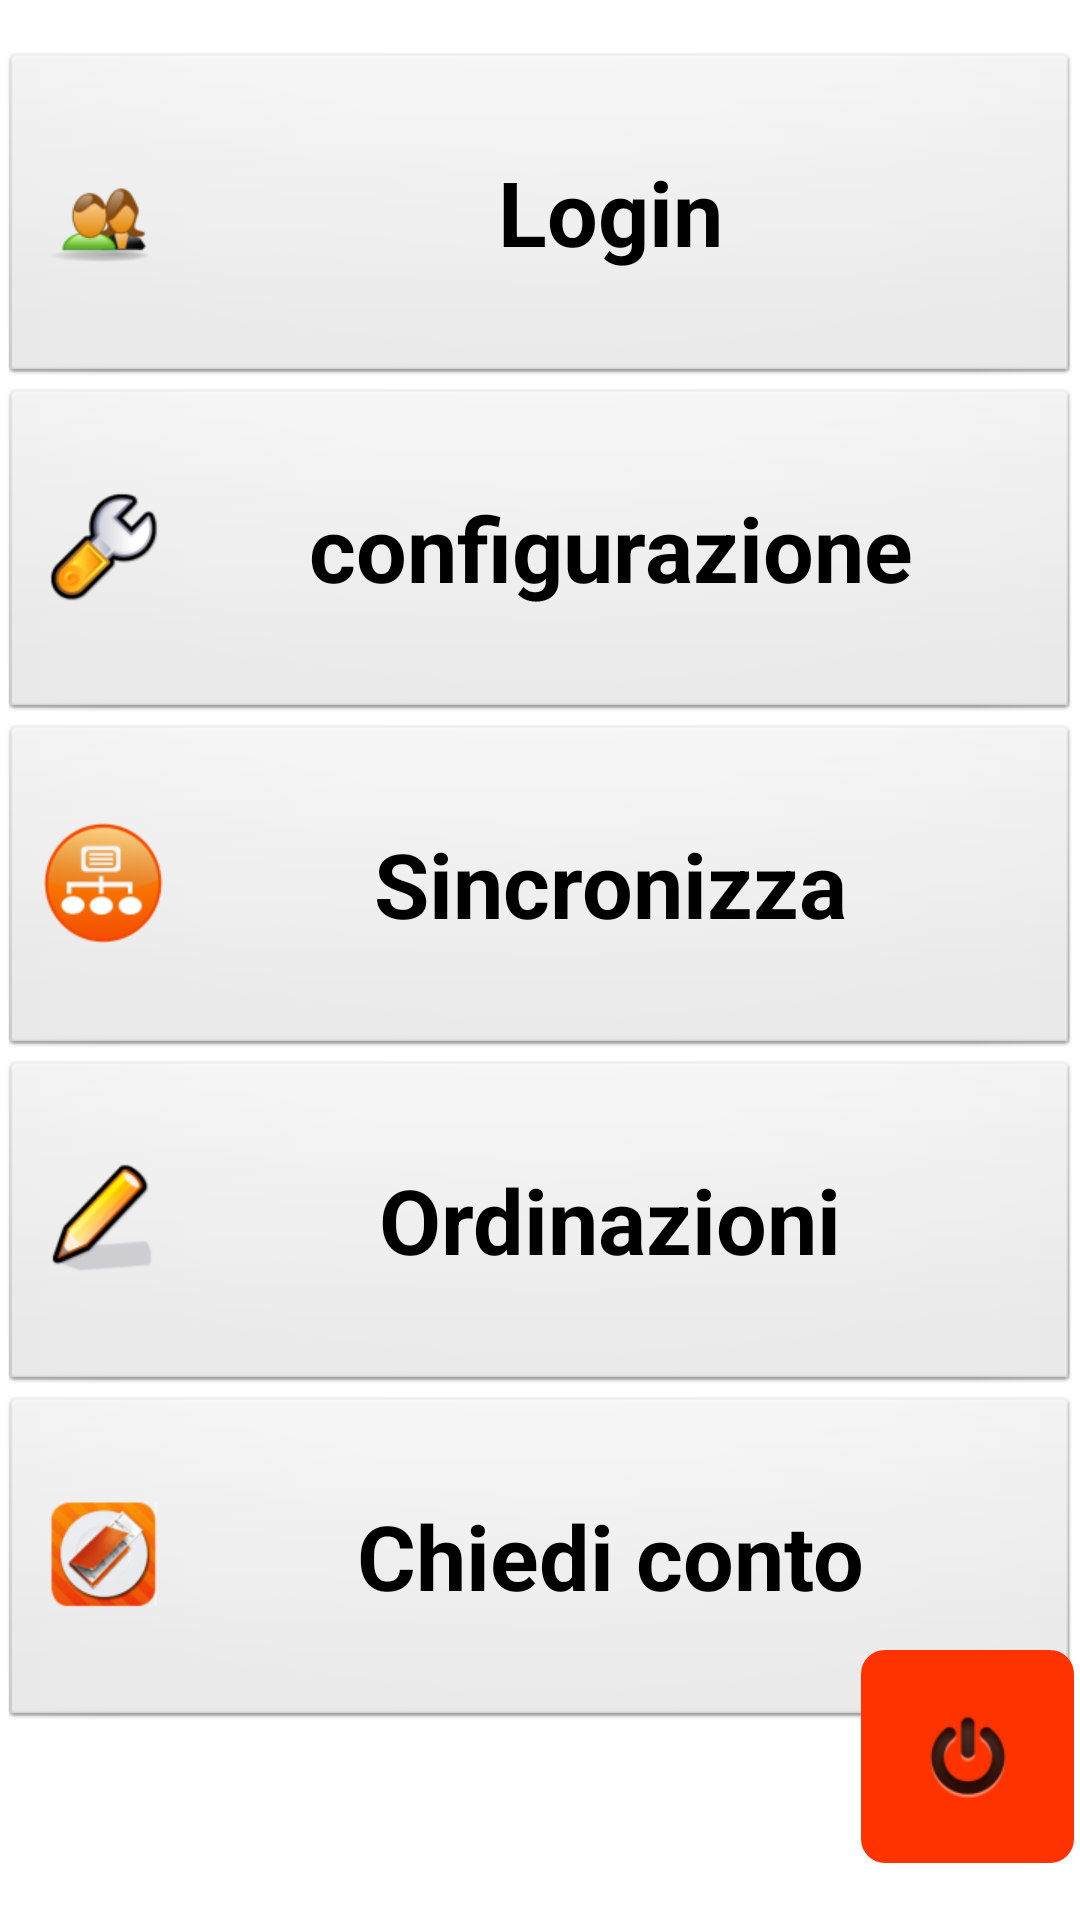

Screen size 1080 × 1920. Icon name, then its box in pixels as bbox=(x1, y1, x2, y2):
Esci: bbox=(855, 1644, 1074, 1863)
